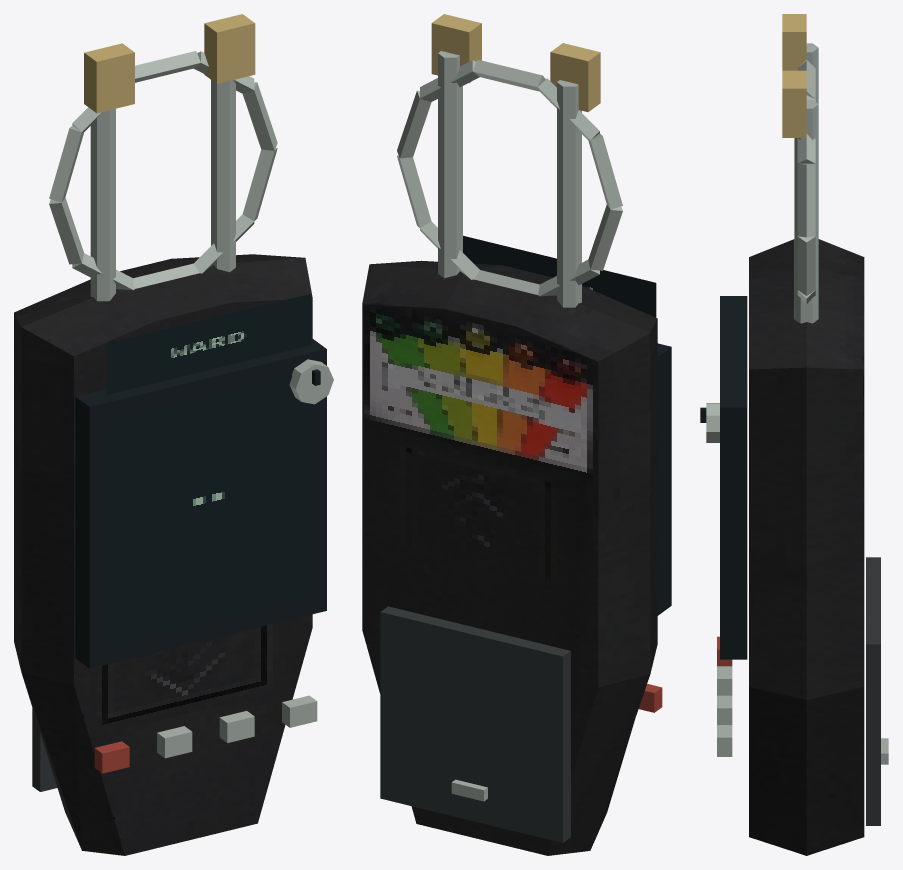
The model's file is blender_ward_stability_probe_3.glb.
3 renders of one model, left to right at view 1: azimuth 30°, elevation 25°; view 2: azimuth 150°, elevation 25°; view 3: azimuth 270°, elevation 25°, orthographic. The views are drawn at different scales.
Parts seen in each view (by area): view 1: blender_ward_stability_probe_3; view 2: blender_ward_stability_probe_3; view 3: blender_ward_stability_probe_3.
Boxes of the visible parts, x1=… form: blender_ward_stability_probe_3: x1=14, y1=14, x2=333, y2=855; blender_ward_stability_probe_3: x1=362, y1=14, x2=671, y2=855; blender_ward_stability_probe_3: x1=700, y1=14, x2=888, y2=855.
Size of the model in its own units: 0.104 by 0.279 by 0.062.
1 material, 1 textured.
